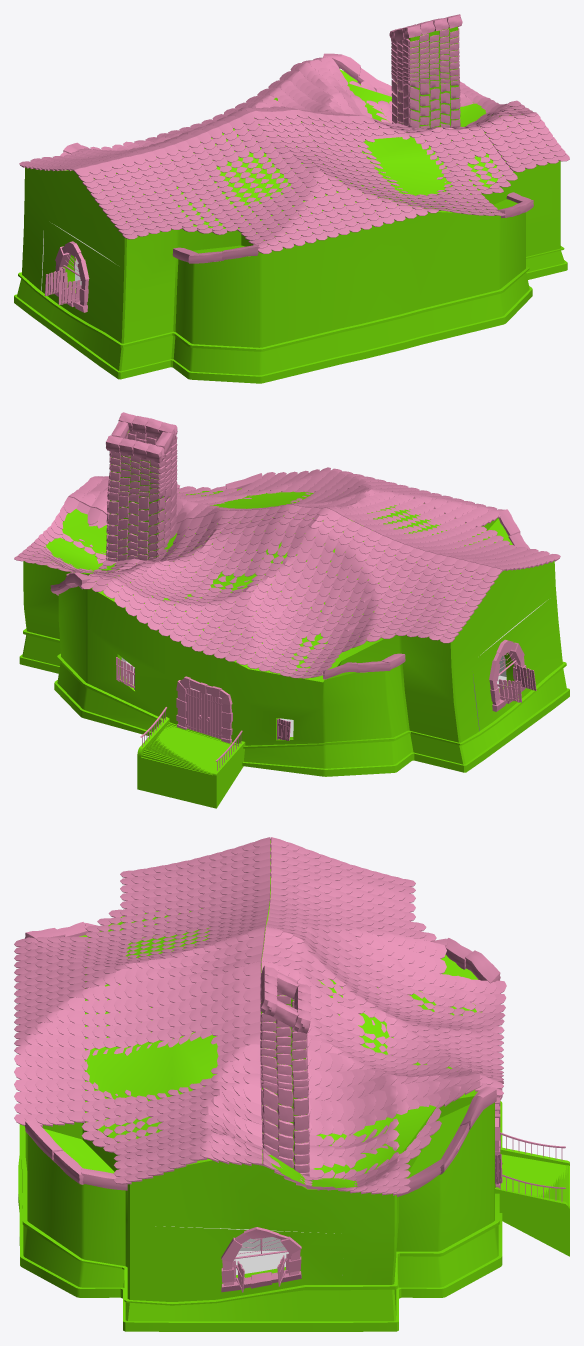
File: House Collapsed.fbx
3 views of the same model, one above another, from view 1: azimuth 30°, elevation 25°; view 2: azimuth 150°, elevation 25°; view 3: azimuth 270°, elevation 25° (orthographic). The views are drawn at different scales.
Visible parts, largest first — view 1: MainBuilding, Roof Tiling, FirePlaceWall, Edge Cubes, WindowRockFrame, FirePlaceRoof, ShuttersSide; view 2: MainBuilding, Roof Tiling, FirePlaceWall, FirePlaceRoof, Edge Cubes, Door, DoorRockFrame, WindowRockFrame, ShuttersSide, ShuttersFront; view 3: Roof Tiling, MainBuilding, FirePlaceWall, Edge Cubes, FirePlaceRoof, WindowRockFrame, InteriorSide, StepsHandles.
Boxes of the visible parts, box(x1,y1,x2,y2) form: MainBuilding: box(14, 26, 567, 383); Roof Tiling: box(19, 57, 569, 253); FirePlaceWall: box(391, 27, 460, 128); Edge Cubes: box(60, 53, 533, 263); WindowRockFrame: box(54, 241, 89, 312); FirePlaceRoof: box(389, 14, 462, 43); ShuttersSide: box(44, 269, 80, 304); MainBuilding: box(19, 430, 569, 808); Roof Tiling: box(14, 467, 560, 678); FirePlaceWall: box(106, 431, 177, 561); FirePlaceRoof: box(105, 412, 177, 462); Edge Cubes: box(50, 473, 529, 679); Door: box(185, 688, 222, 738); DoorRockFrame: box(176, 676, 232, 743); WindowRockFrame: box(489, 639, 527, 711); ShuttersSide: box(498, 664, 536, 702); ShuttersFront: box(116, 657, 290, 740); Roof Tiling: box(14, 837, 506, 1195); MainBuilding: box(18, 840, 569, 1331); FirePlaceWall: box(260, 983, 309, 1176); Edge Cubes: box(25, 922, 500, 1196); FirePlaceRoof: box(260, 965, 310, 1033); WindowRockFrame: box(221, 1227, 301, 1292); InteriorSide: box(155, 1226, 342, 1275); StepsHandles: box(500, 1132, 565, 1201).
Bounding box in the file's own units: 401 × 210 × 309.
